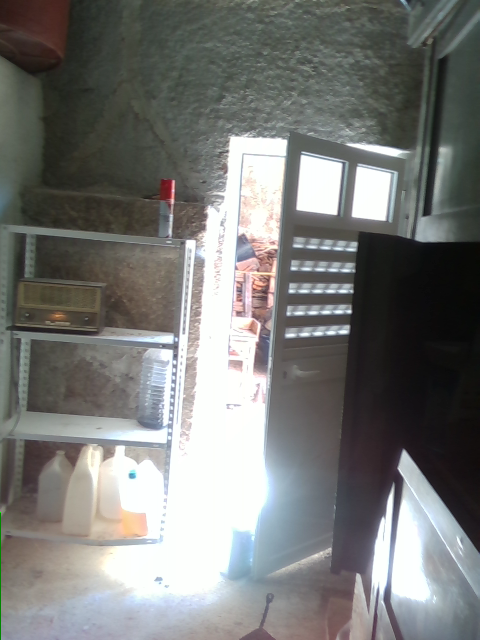semi: (199, 137, 413, 578)
